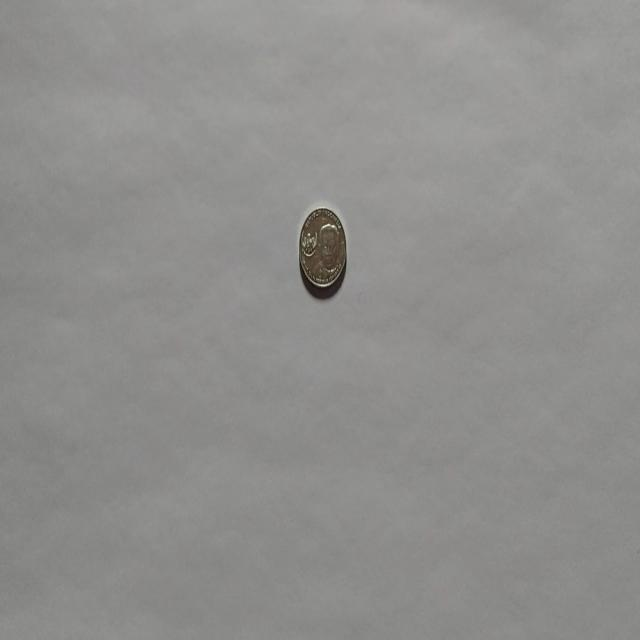seratus rupiah: (298, 205, 347, 294)
